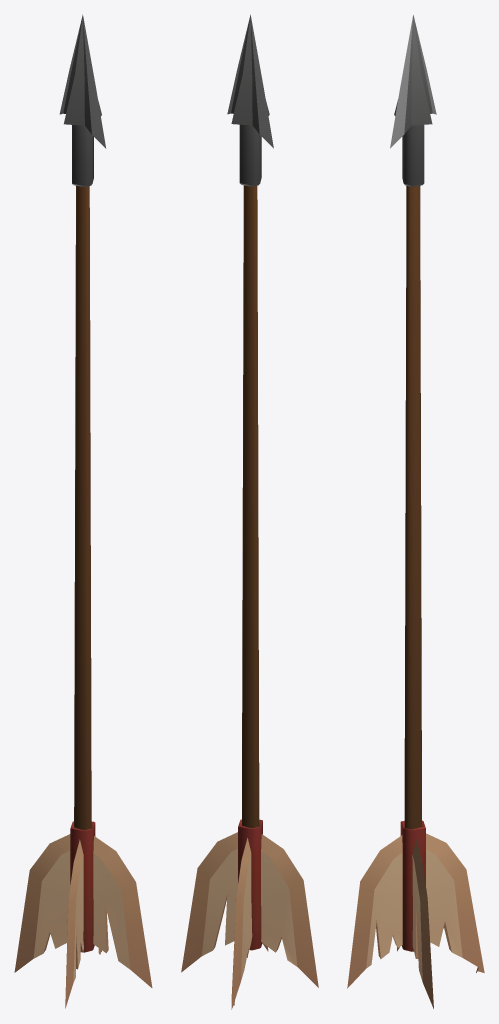
File: Arrow_2_A.glb
3 renders of one model, left to right at view 1: azimuth 30°, elevation 25°; view 2: azimuth 210°, elevation 25°; view 3: azimuth 330°, elevation 25°, orthographic.
Parts seen in each view (by area): view 1: Arrow_2_A; view 2: Arrow_2_A; view 3: Arrow_2_A.
Part boxes in pixels (<box>): Arrow_2_A: <box>14,14,152,1008</box>; Arrow_2_A: <box>181,14,318,1009</box>; Arrow_2_A: <box>347,15,484,1008</box>.
Size of the model in its own units: 0.096 by 1.01 by 0.096.
Materials: 2 (2 with a texture image).
